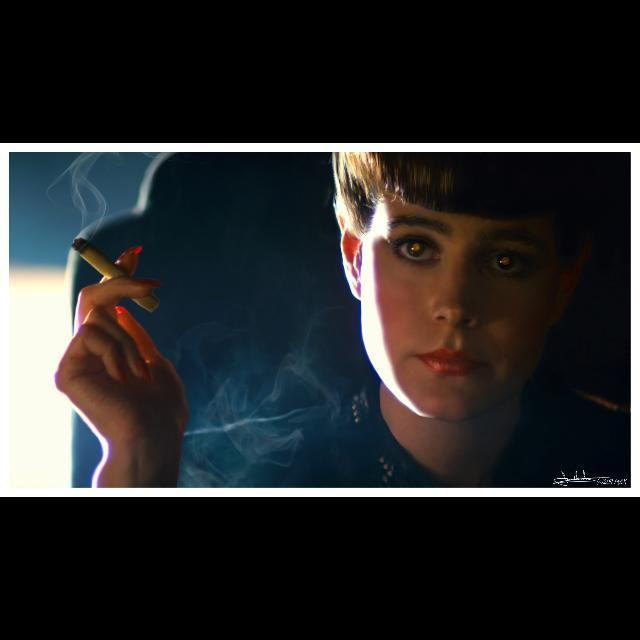rokok: (56, 231, 170, 321)
